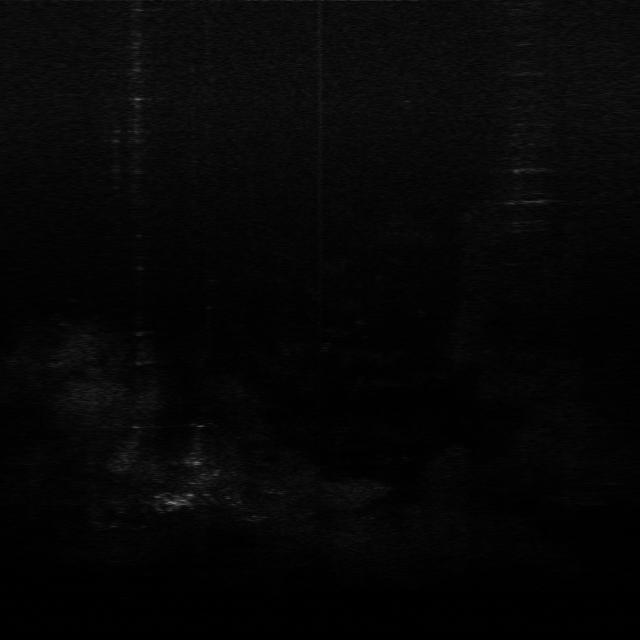rov: (153, 488, 199, 509)
